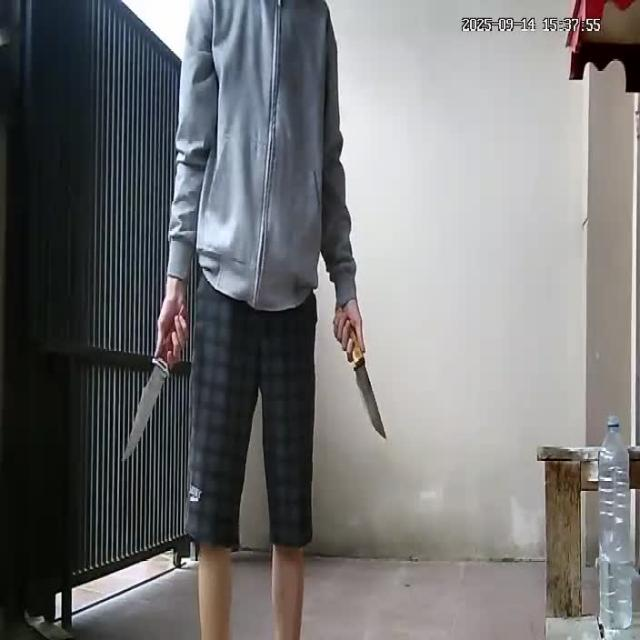senjata_tajam: (121, 350, 173, 466), (350, 349, 389, 440)
